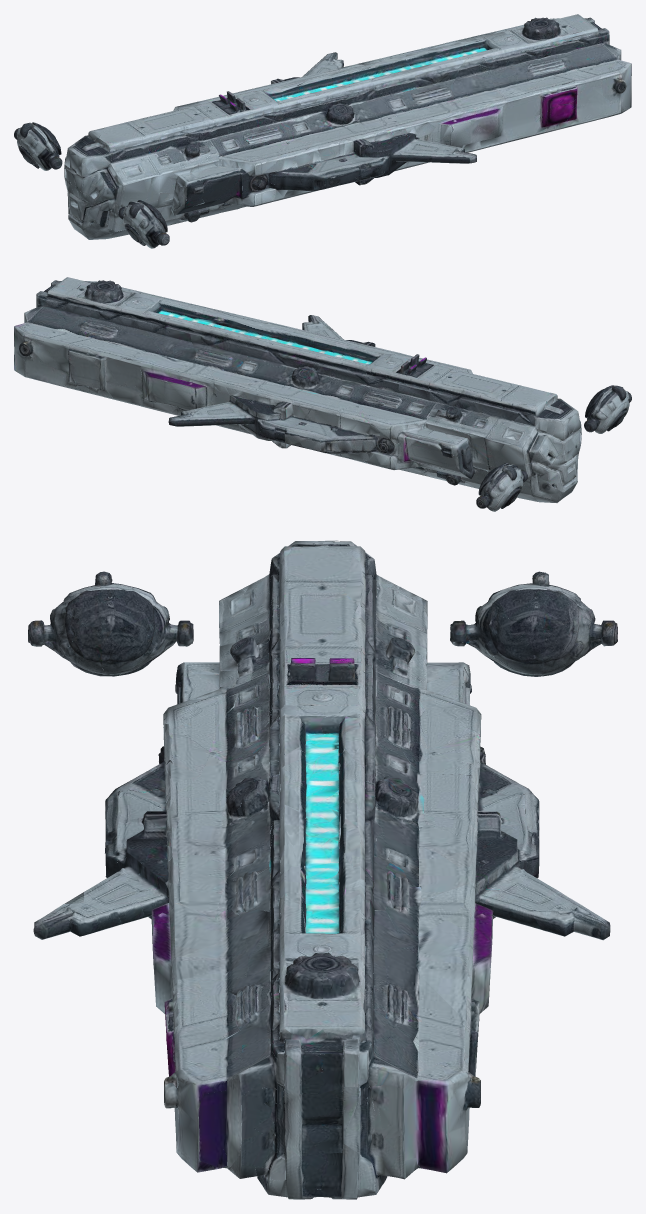
File: rmrf_v1.glb
The picture shows the model from 3 angles, top to bottom: view 1: azimuth 30°, elevation 25°; view 2: azimuth 150°, elevation 25°; view 3: azimuth 270°, elevation 25°; orthographic projection. The views are drawn at different scales.
Parts seen in each view (by area): view 1: Mesh_0; view 2: Mesh_0; view 3: Mesh_0.
Part boxes in pixels (x1=…): Mesh_0: x1=14, y1=14, x2=631, y2=248; Mesh_0: x1=14, y1=277, x2=631, y2=511; Mesh_0: x1=28, y1=540, x2=617, y2=1199.
Size of the model in its own units: 1.9 by 0.3459 by 0.9222.
1 material, 1 textured.
